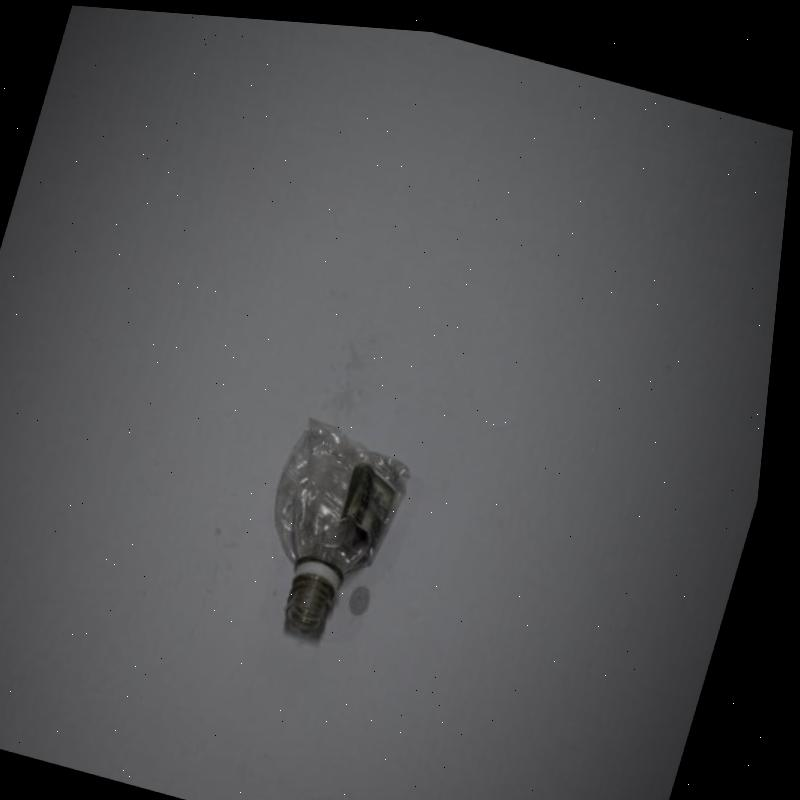botella: (246, 400, 429, 644)
